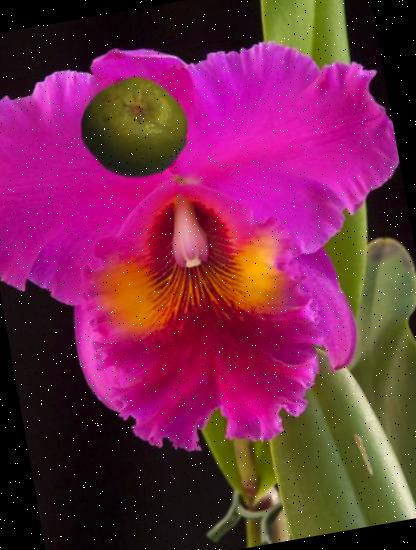Pomelo: (73, 65, 198, 190)
